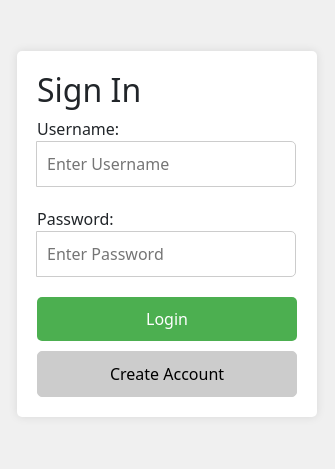
Test: Login Component Tests › displays validation errors
# Wrap in act
Click the button "Login": (167, 319) [37, 297, 297, 341]
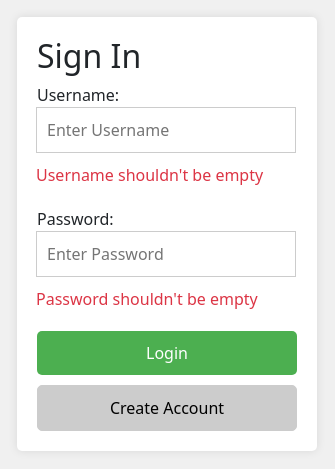
Result: the text "Username shouldn't be empty" is shown at [36, 153, 263, 187]
Result: the text "Password shouldn't be empty" is shown at [36, 277, 258, 311]
